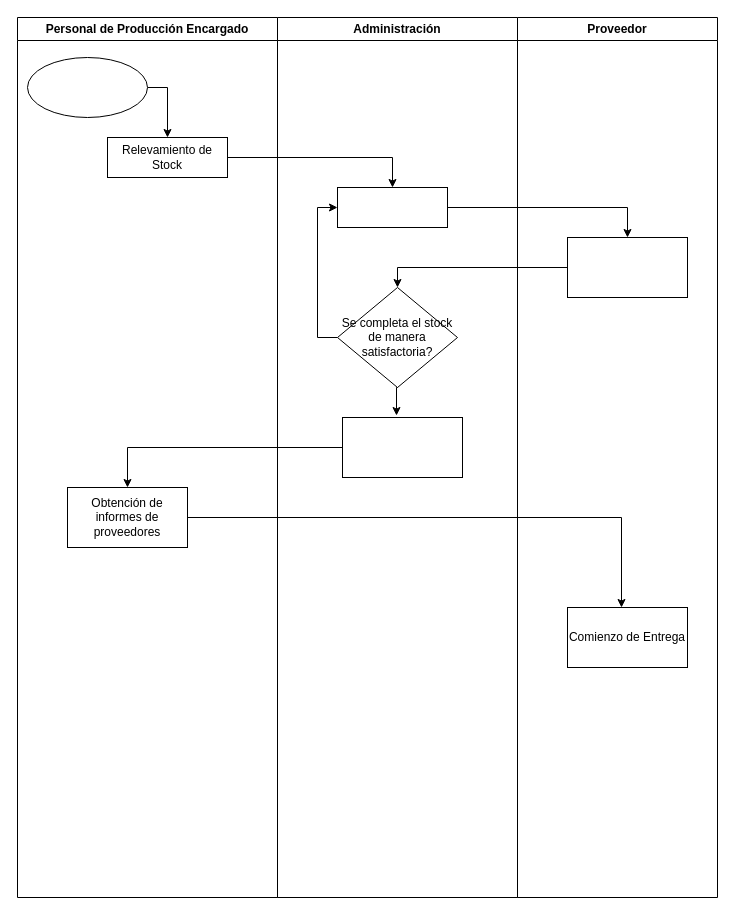
The diagram is 735 pixels wide and 915 high, and some of its shapes have lost their labels. The centre of each missing label's shape, as x and y in pixels:
Análisis y respuesta (Pedido Total, Parcial o Cancelado): the point at 627,267
Comienzo Control de Inventario Semanal: the point at 87,87
Contacto Con Proveedores: the point at 392,207
Pagos y generación de informes de proveedores: the point at 402,447
